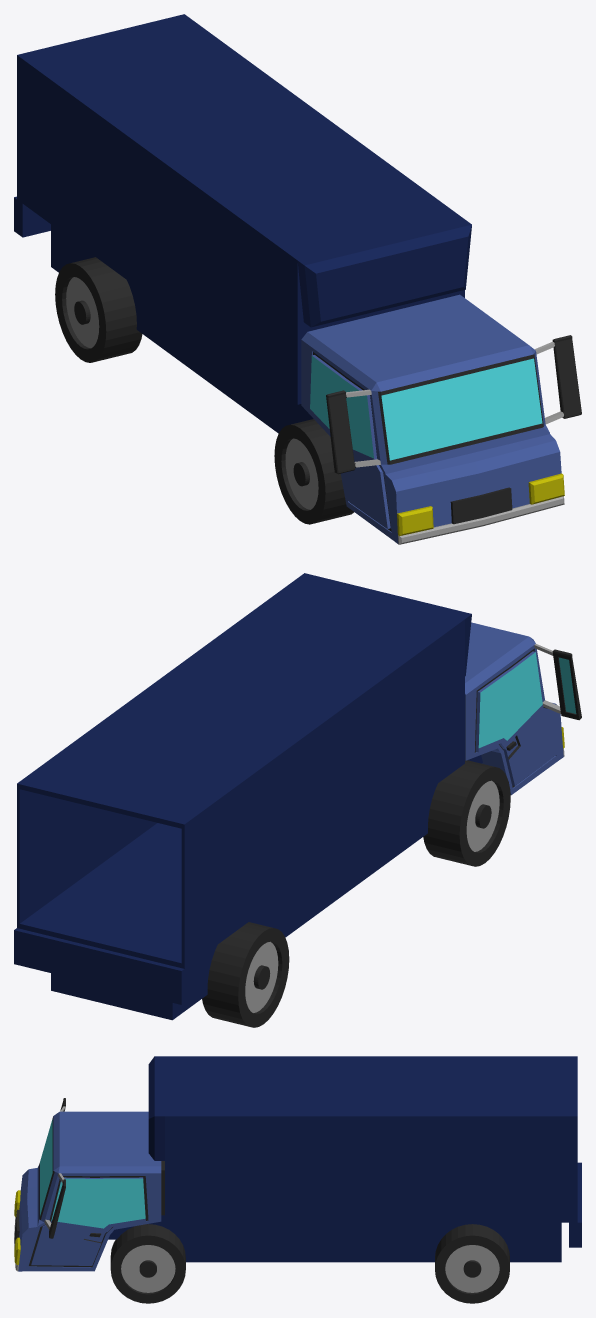
Rendered from van.fbx.
The picture shows the model from 3 angles, top to bottom: view 1: azimuth 30°, elevation 25°; view 2: azimuth 150°, elevation 25°; view 3: azimuth 270°, elevation 25°; orthographic projection. The views are drawn at different scales.
Parts seen in each view (by area): view 1: Cube, Wheel3, Wheel4; view 2: Cube, Wheel4, Wheel3; view 3: Cube, Wheel, Wheel2.
Boxes of the visible parts, left/top/right/bottom form: Cube: left=14, top=14, right=581, bottom=544; Wheel3: left=55, top=257, right=142, bottom=362; Wheel4: left=274, top=419, right=353, bottom=524; Cube: left=14, top=573, right=581, bottom=1020; Wheel4: left=423, top=760, right=510, bottom=866; Wheel3: left=202, top=922, right=289, bottom=1027; Cube: left=14, top=1056, right=581, bottom=1271; Wheel: left=110, top=1224, right=185, bottom=1303; Wheel2: left=435, top=1224, right=509, bottom=1303.
Size of the model in its own units: 7274 by 7105 by 19872.
